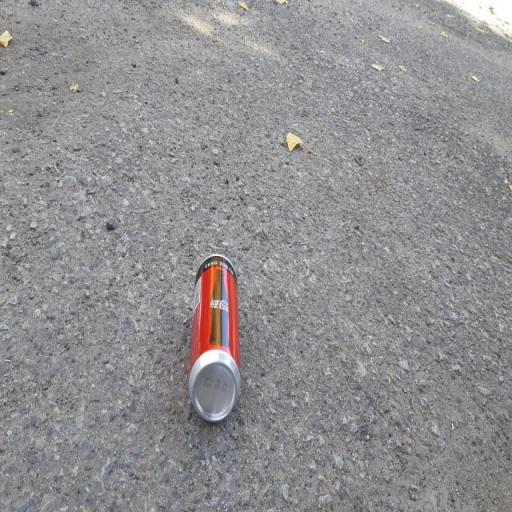metal: (151, 250, 274, 470)
